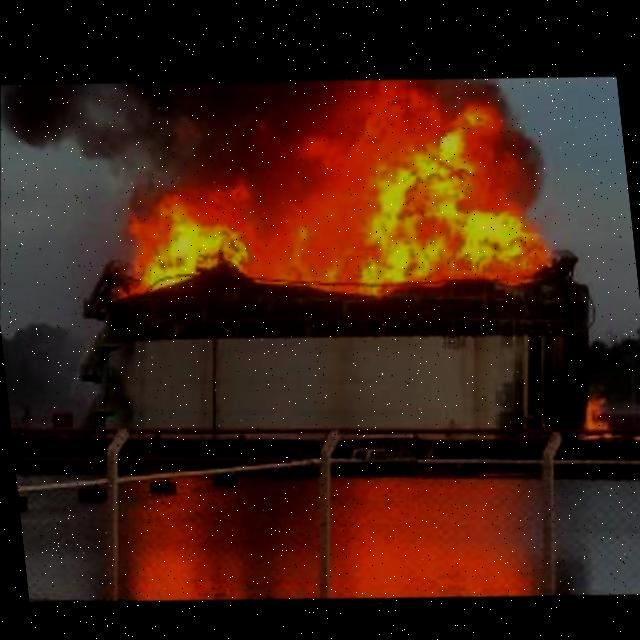fire: (91, 73, 546, 336), (569, 386, 610, 438)
